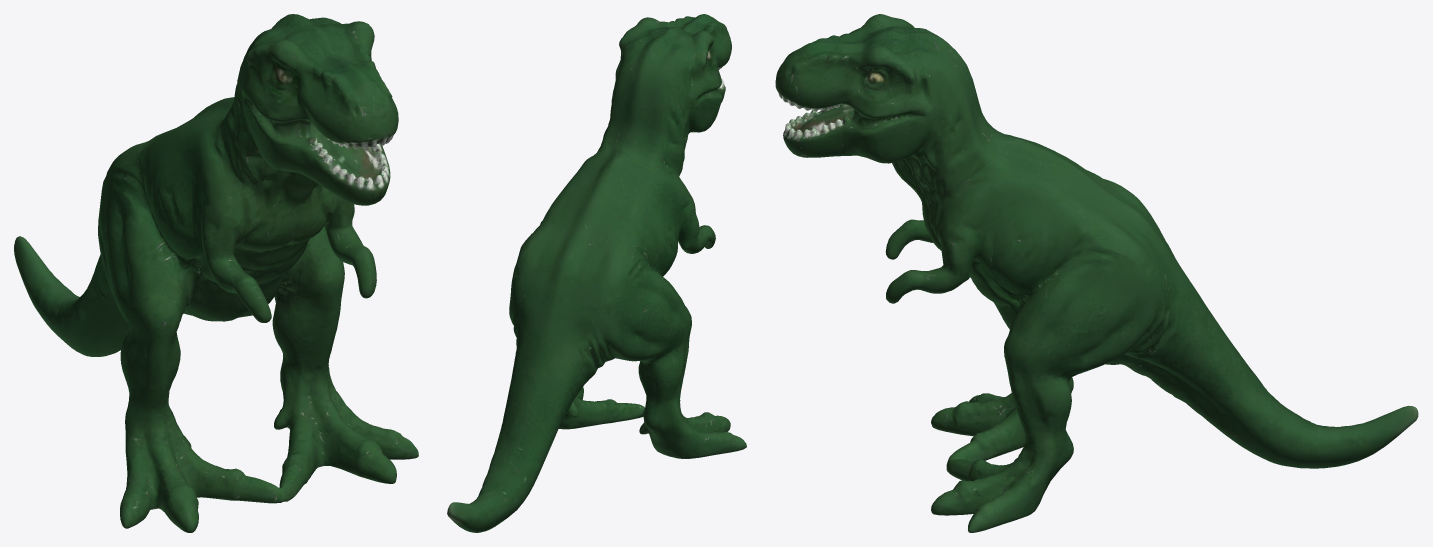
File: trex.glb
The picture shows the model from 3 angles, left to right: view 1: azimuth 30°, elevation 25°; view 2: azimuth 150°, elevation 25°; view 3: azimuth 270°, elevation 25°; orthographic projection. The views are drawn at different scales.
Parts seen in each view (by area): view 1: Mesh_0; view 2: Mesh_0; view 3: Mesh_0.
Part boxes in pixels (x1,y1,x2,y2): Mesh_0: (14, 14, 418, 532); Mesh_0: (447, 14, 746, 532); Mesh_0: (775, 14, 1418, 532).
Size of the model in its own units: 0.8861 by 1.43 by 1.9.
1 material, 1 textured.
